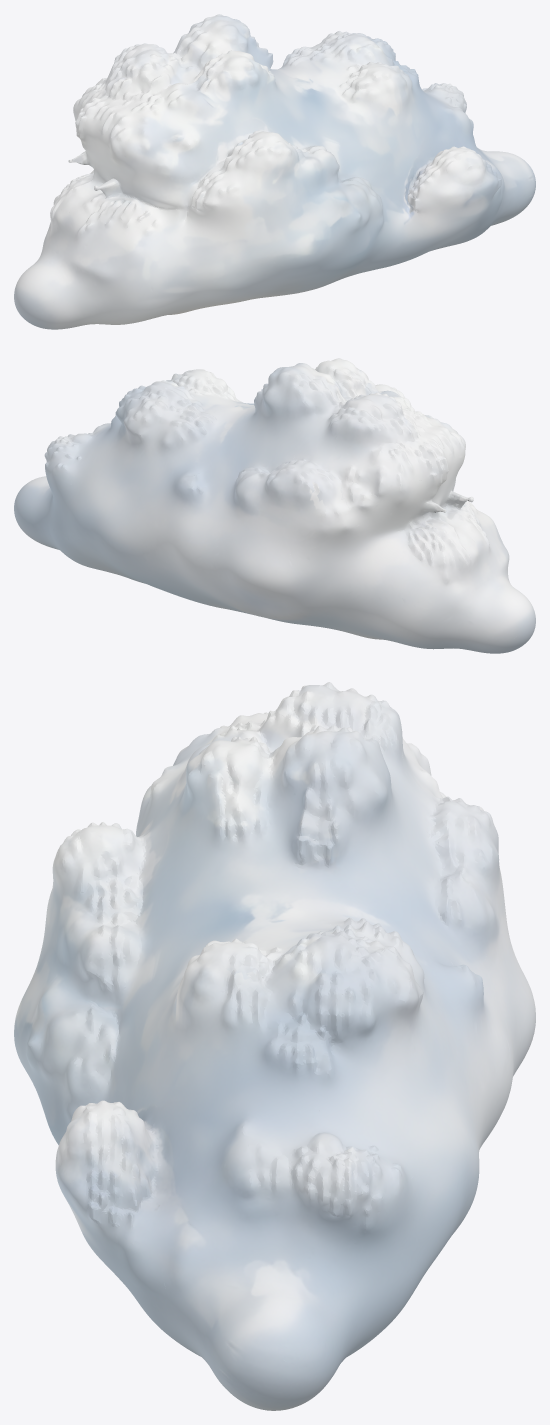
The model's file is cloud_nv2.glb.
The picture shows the model from 3 angles, top to bottom: view 1: azimuth 30°, elevation 25°; view 2: azimuth 150°, elevation 25°; view 3: azimuth 270°, elevation 25°; orthographic projection. The views are drawn at different scales.
Visible parts, largest first — view 1: model; view 2: model; view 3: model.
Part boxes in pixels (x1=…): model: x1=14, y1=14, x2=535, y2=329; model: x1=14, y1=358, x2=535, y2=653; model: x1=14, y1=682, x2=535, y2=1410.
Size of the model in its own units: 1.9 by 0.9187 by 0.9407.
1 material, 1 textured.
